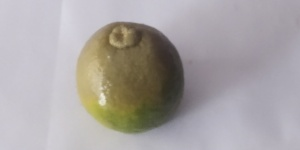BAD: (78, 23, 183, 133)
